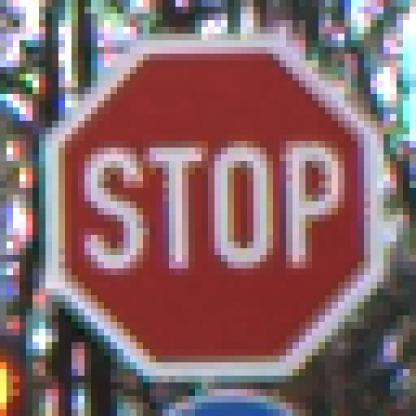stop: (43, 33, 396, 387)
